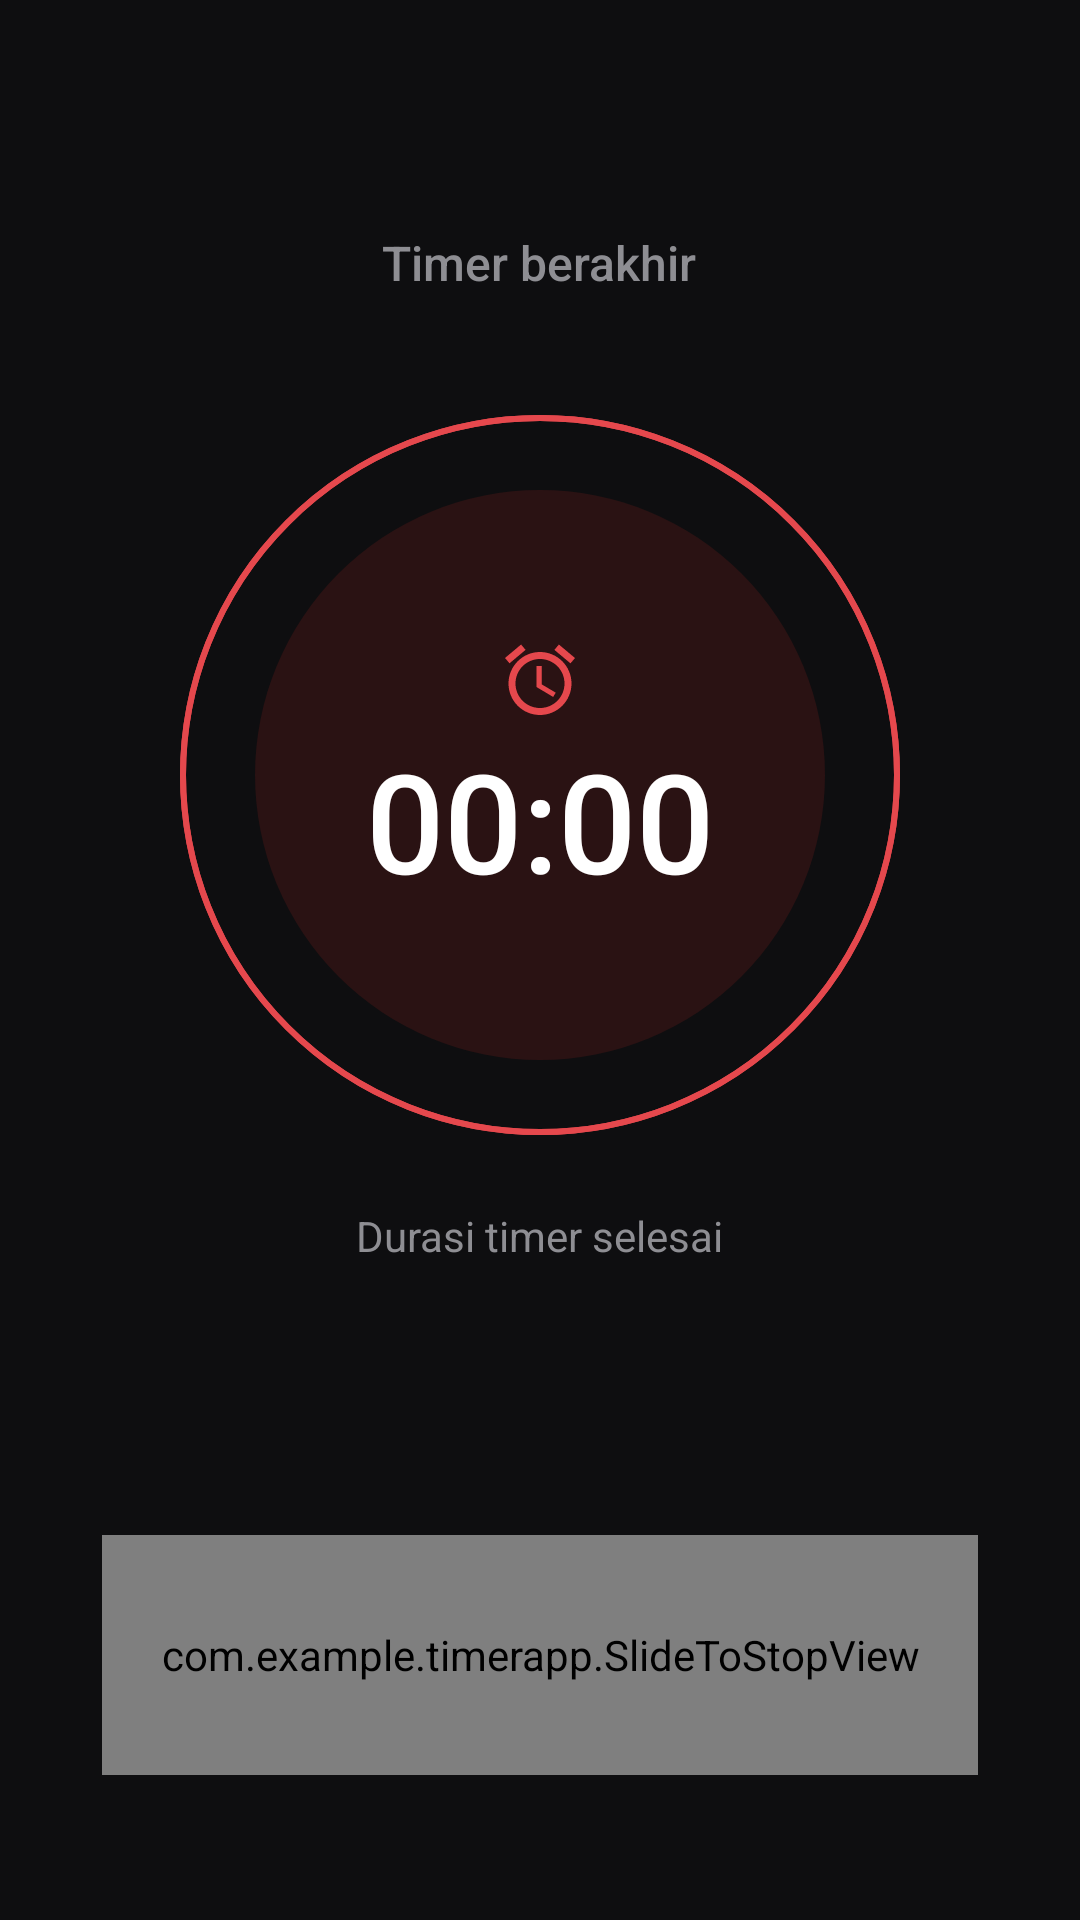

Icon bounding boxes for this 1080 × 1920 phone screenshot, format (x1, y1, x2, y2):
alarm clock: (505, 644, 575, 715)
